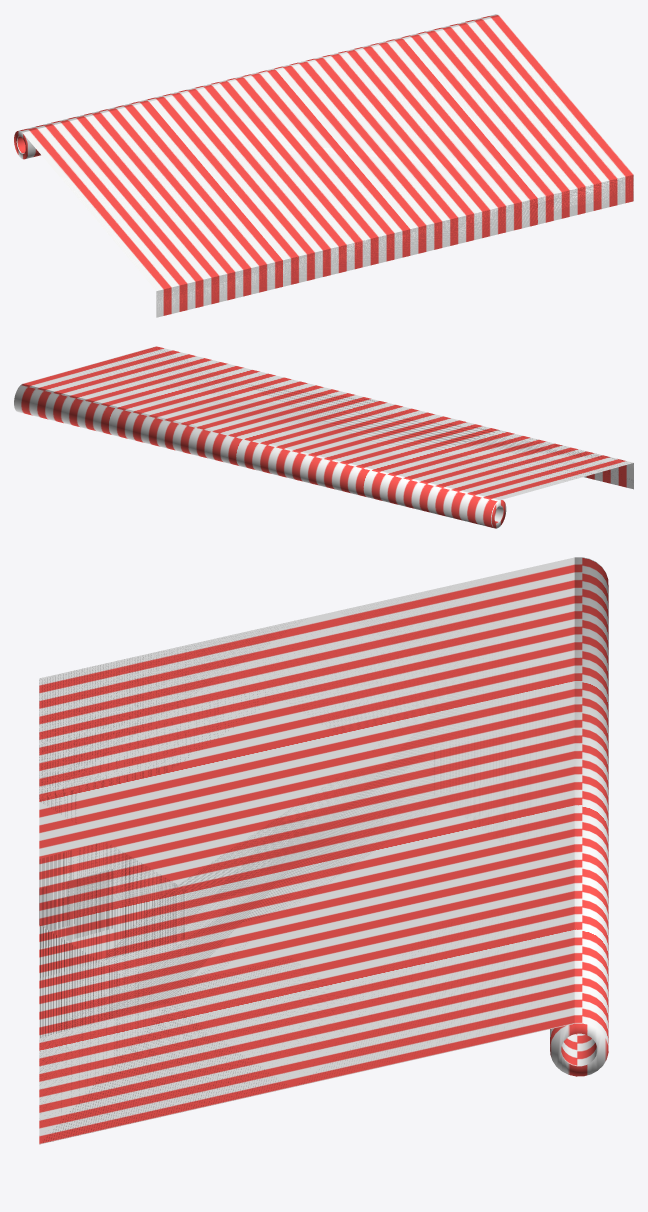
Rendered from awning.fbx.
3 renders of one model, top to bottom at view 1: azimuth 30°, elevation 25°; view 2: azimuth 150°, elevation 25°; view 3: azimuth 270°, elevation 25°, orthographic. The views are drawn at different scales.
Parts seen in each view (by area): view 1: Object_3; view 2: Object_3; view 3: Object_3.
Boxes of the visible parts, x1,y1,x2,y2 form: Object_3: [14, 14, 633, 317]; Object_3: [14, 346, 633, 528]; Object_3: [39, 557, 608, 1144].
Bounding box in the file's own units: 30000 × 5229 × 15475.
